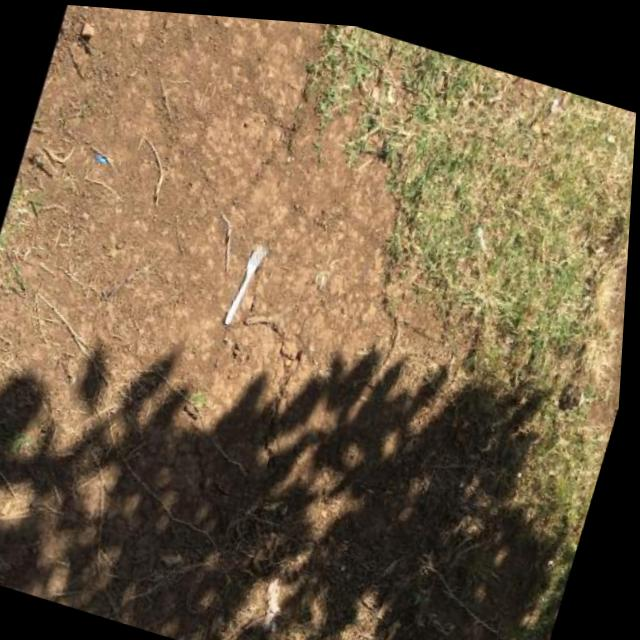plastic: (220, 238, 266, 333), (206, 213, 242, 272)
